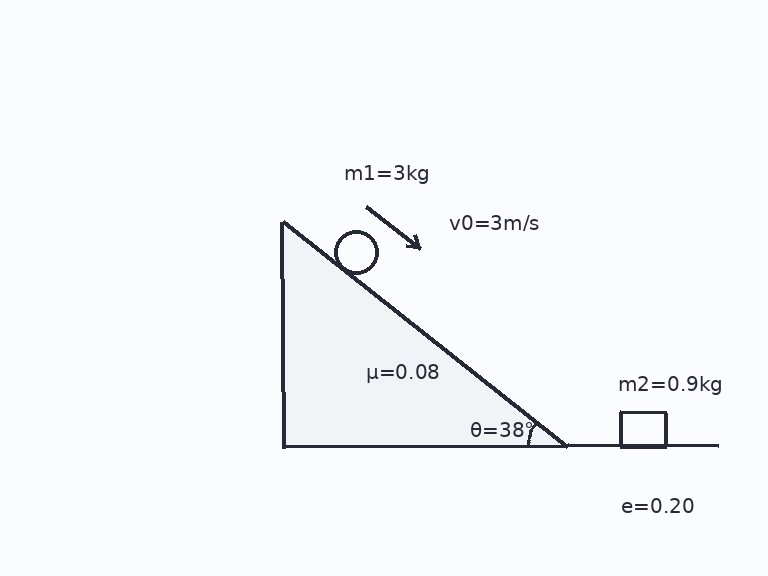ball: (332, 228, 380, 276)
block: (618, 410, 668, 448)
ramp: (280, 221, 570, 448)
